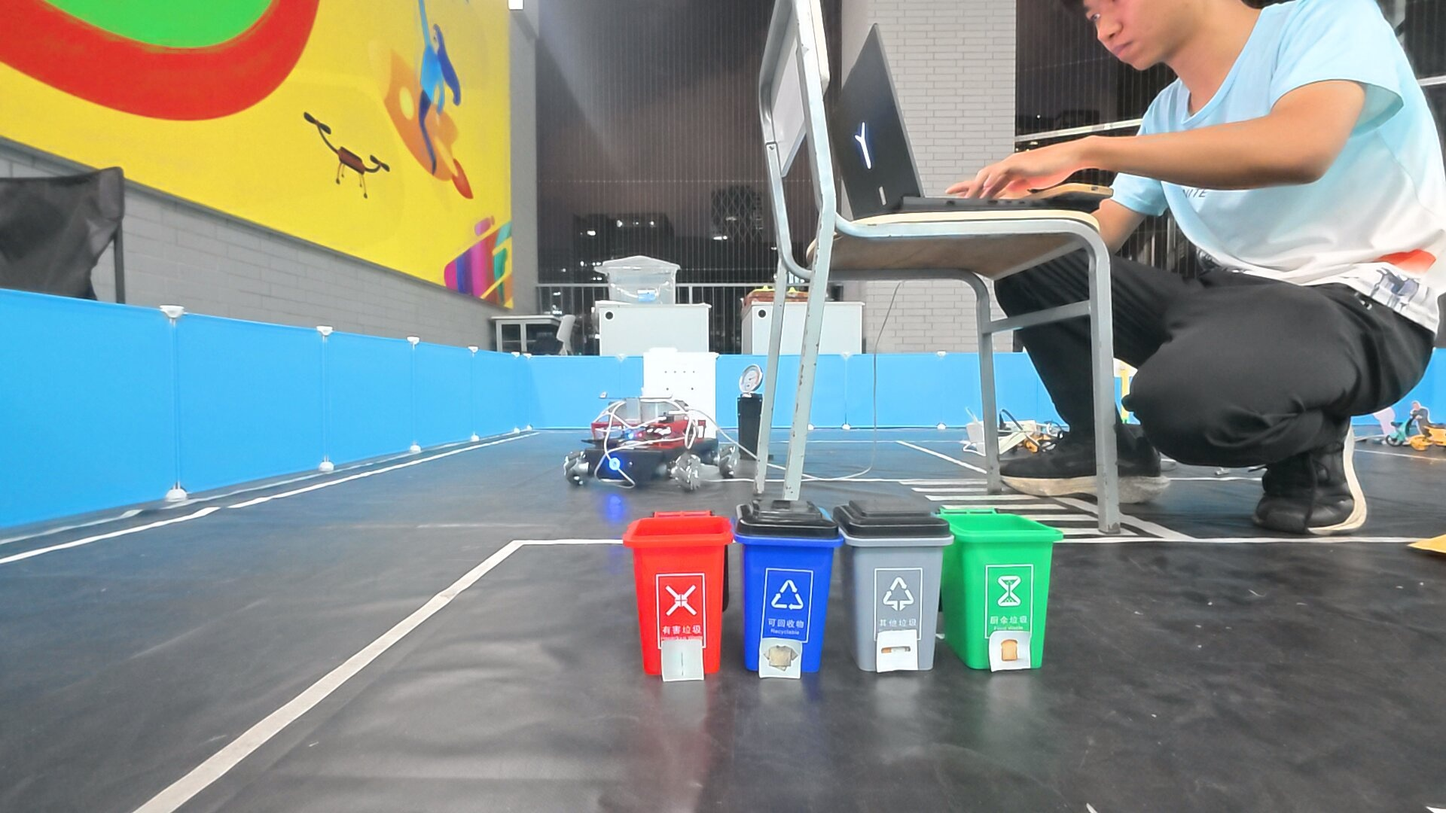food_trash: (993, 633, 1030, 665)
hazardous_trash: (663, 642, 696, 678)
other_trash: (878, 632, 915, 666)
recyclable_trash: (763, 638, 801, 677)
